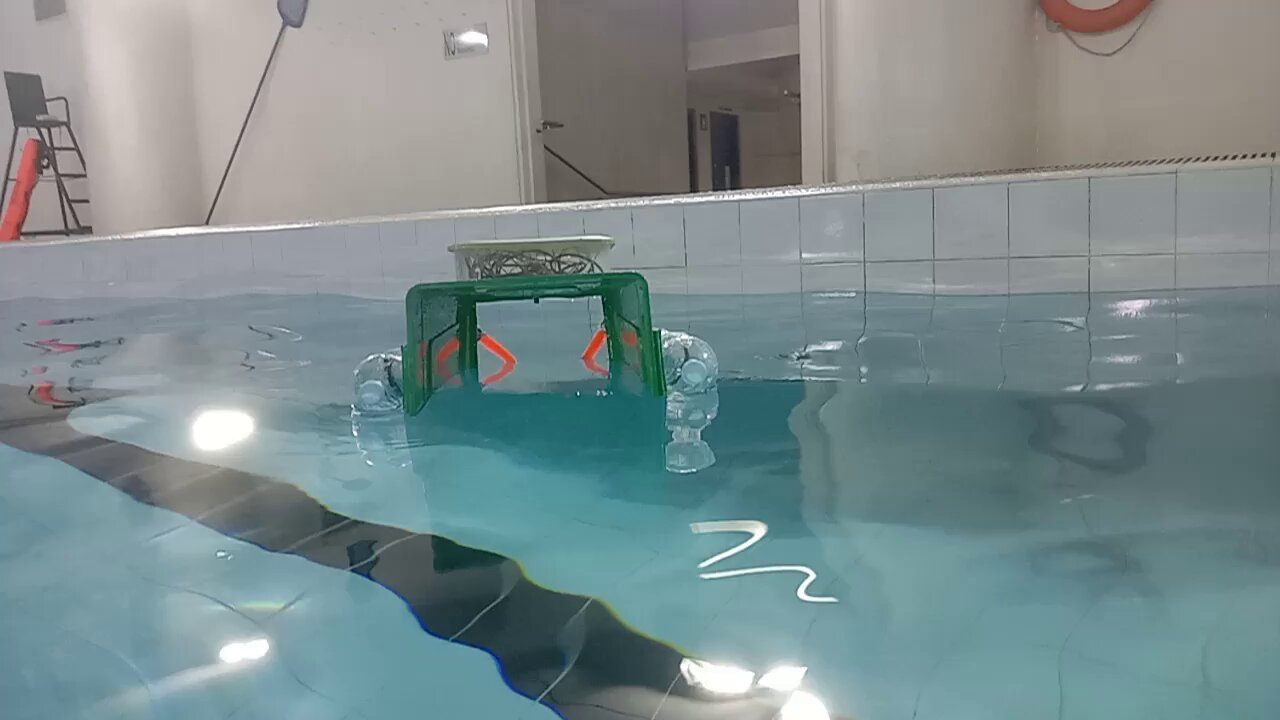drone: (351, 230, 721, 425)
